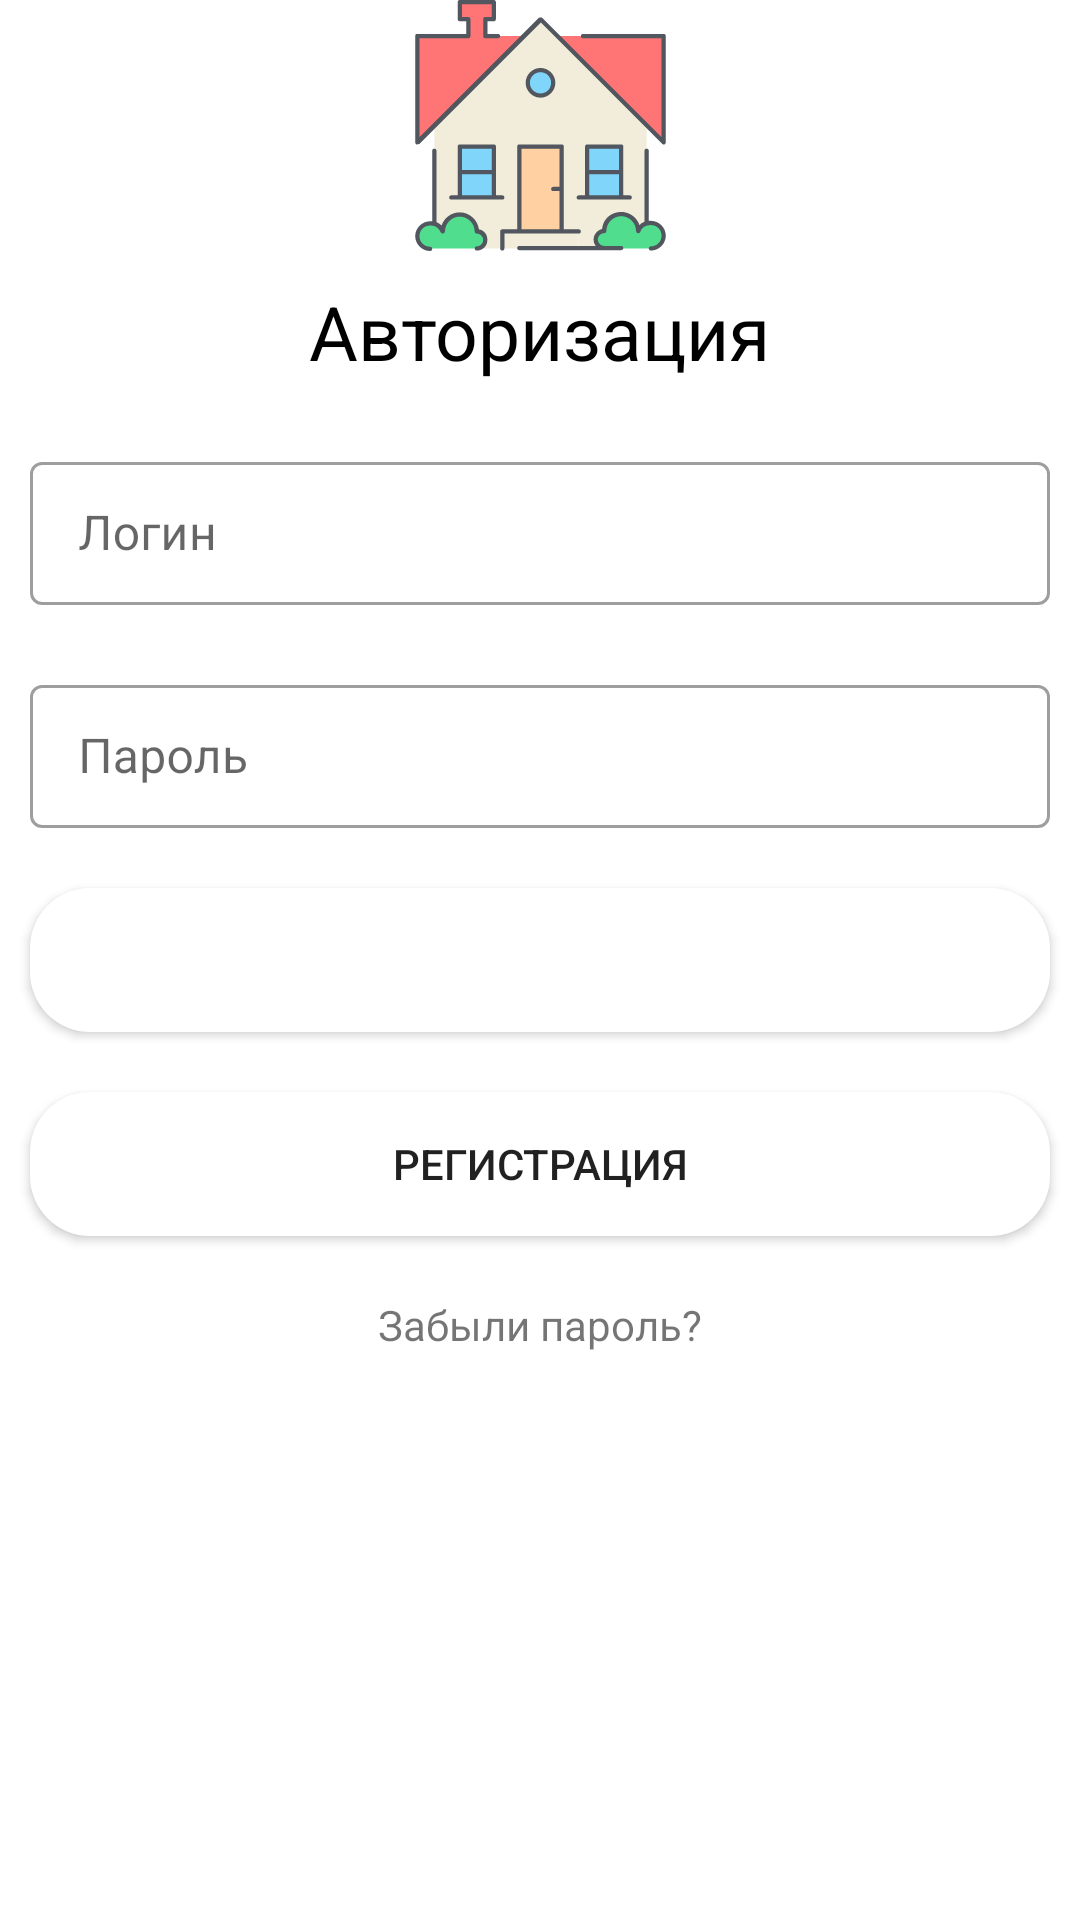

Locate icon controls on the screen. Image size 1080x1920, boxes as {"left": x1, "top": y1, "right": x2, "bottom": y2}.
house: {"left": 415, "top": 0, "right": 666, "bottom": 251}
